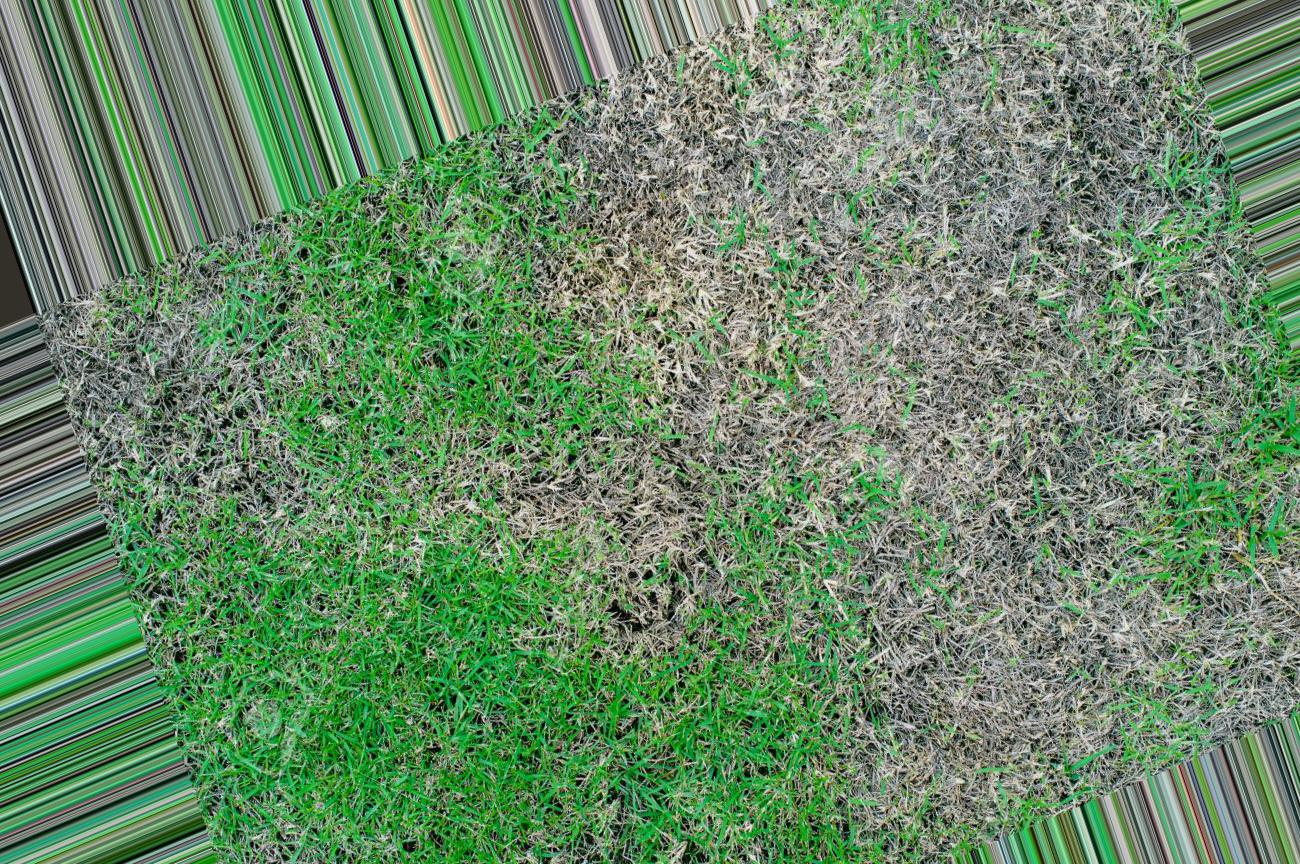patch: (615, 305, 915, 426), (968, 400, 1107, 568), (910, 171, 1065, 298), (598, 126, 749, 255), (608, 526, 812, 618), (920, 657, 1069, 775), (154, 376, 298, 480)
